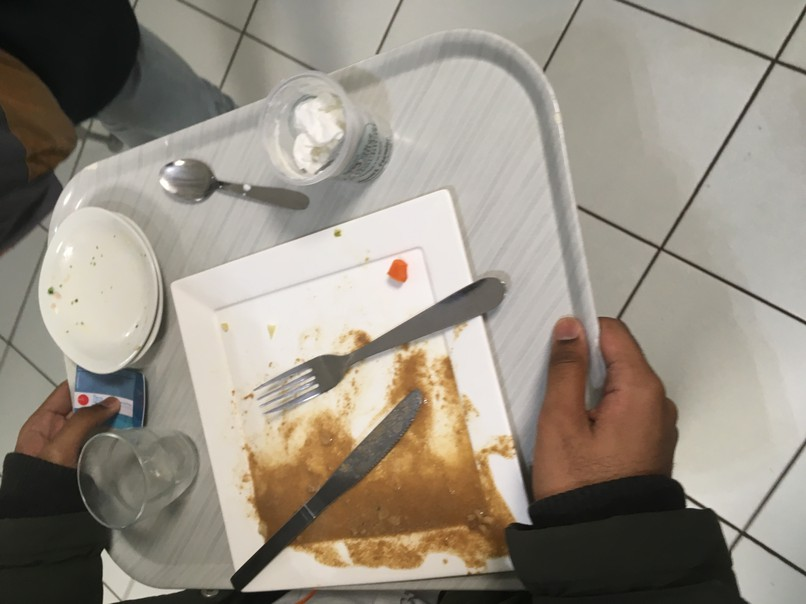cup: (57, 421, 211, 540)
cutlery: (214, 390, 434, 598), (244, 271, 521, 411), (148, 154, 310, 226)
orga: (351, 471, 499, 540), (251, 469, 299, 518)
trash: (235, 79, 401, 190)
